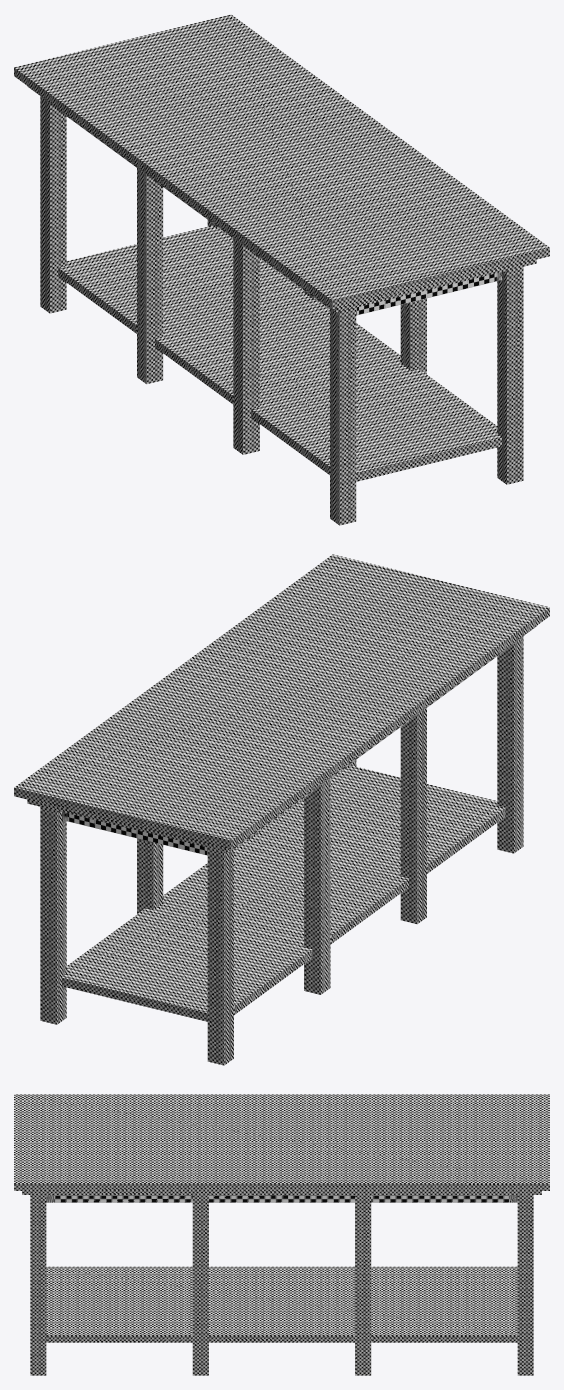
File: etabli.FBX
3 views of the same model, one above another, from view 1: azimuth 30°, elevation 25°; view 2: azimuth 150°, elevation 25°; view 3: azimuth 270°, elevation 25° (orthographic). The views are drawn at different scales.
Parts seen in each view (by area): view 1: Box012, Box001; view 2: Box012, Box001; view 3: Box012, Box001.
Part boxes in pixels (<box>): Box012: <box>14,14,549,309</box>; Box001: <box>27,86,536,525</box>; Box012: <box>14,554,549,849</box>; Box001: <box>27,626,536,1065</box>; Box012: <box>14,1094,549,1190</box>; Box001: <box>22,1191,541,1375</box>.
Bounding box in the file's own units: 13 × 13.5 × 33.
Materials: 1 (1 with a texture image).
